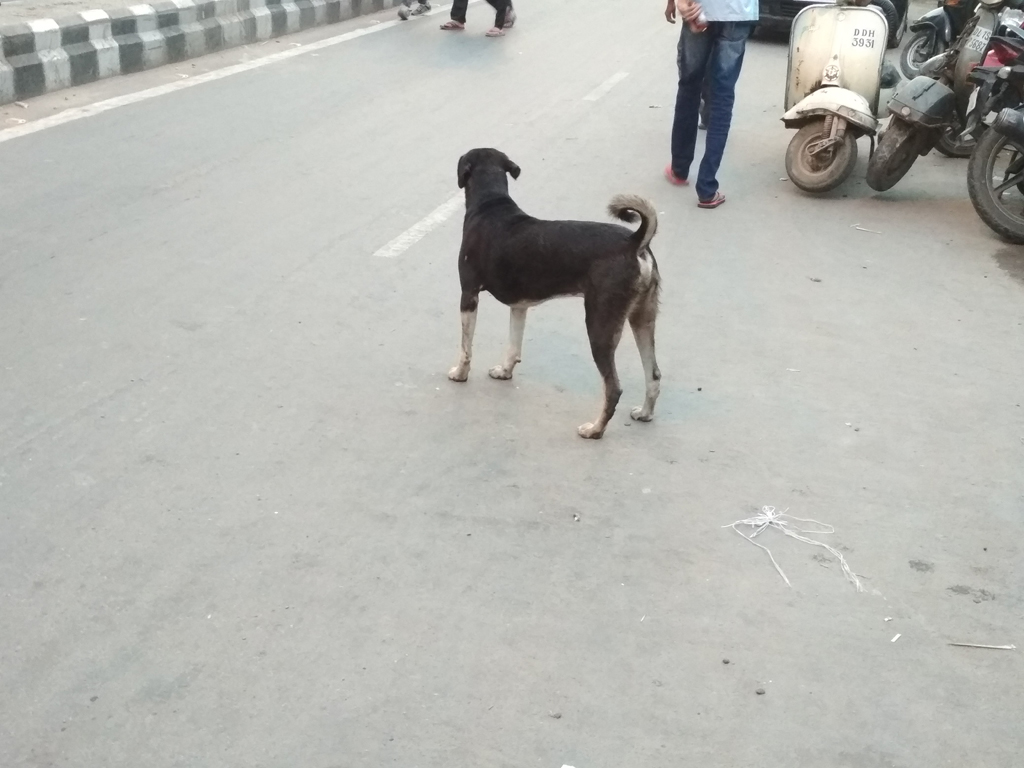dog: (447, 147, 666, 439)
